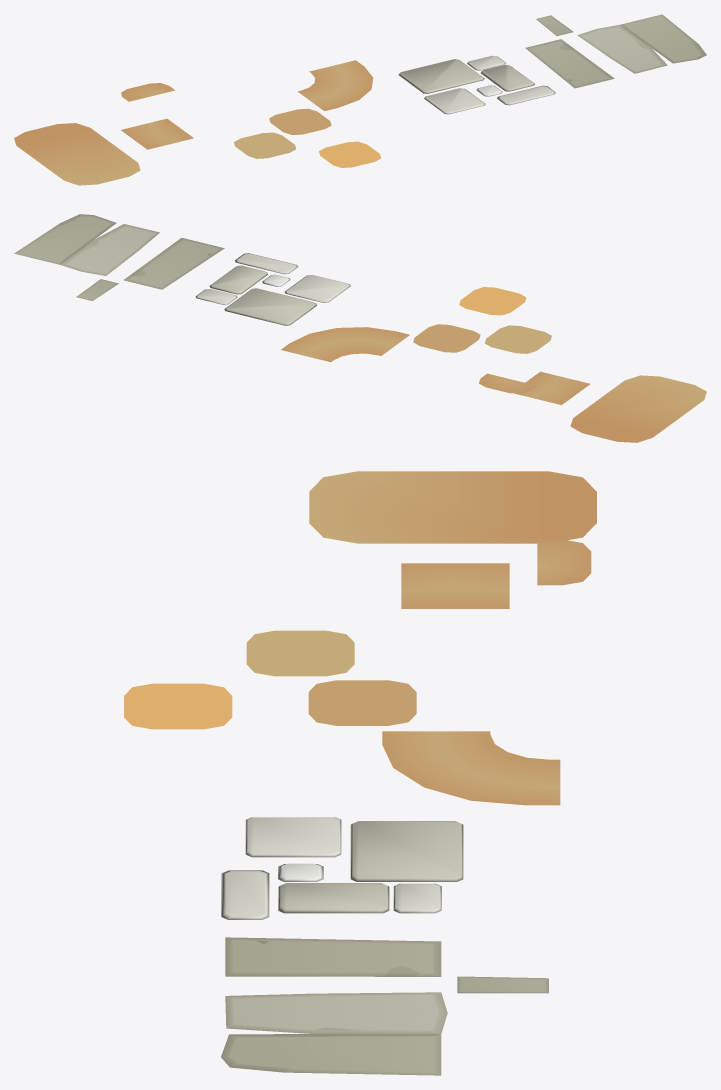
File: Road.fbx
The picture shows the model from 3 angles, top to bottom: view 1: azimuth 30°, elevation 25°; view 2: azimuth 150°, elevation 25°; view 3: azimuth 270°, elevation 25°; orthographic projection. The views are drawn at different scales.
Visible parts, largest first — view 1: Road_S1_1, Road_Step3_1, Road_S1_3.005, Road_Step2_2, Road_Step2_3, Road_Step2_1, Road_S1_2, Road_S1_3.001, Road_S2_1, Road_S1_3.003, Road_S1_3_End.001, Road_Step2_1.001 (+1 smaller); view 2: Road_S1_1, Road_Step3_1, Road_S1_3.005, Road_Step2_2, Road_Step2_3, Road_Step2_1, Road_S1_3.003, Road_S1_3.001, Road_S2_1, Road_S1_2, Road_S1_3_End.001, Road_Step2_1.001 (+1 smaller); view 3: Road_S1_1, Road_Step3_1, Road_S1_3.005, Road_Step2_2, Road_Step2_3, Road_Step2_1, Road_S1_2, Road_S1_3.001, Road_S2_1, Road_S1_3.003, Road_S1_3_End.001, Road_Step2_1.001 (+1 smaller).
Boxes of the visible parts, bbox=[...] form: Road_S1_1: bbox=[14, 123, 140, 185]; Road_Step3_1: bbox=[398, 59, 555, 114]; Road_S1_3.005: bbox=[297, 60, 373, 111]; Road_Step2_2: bbox=[577, 25, 667, 73]; Road_Step2_3: bbox=[620, 14, 706, 63]; Road_Step2_1: bbox=[525, 39, 614, 88]; Road_S1_2: bbox=[121, 118, 193, 149]; Road_S1_3.001: bbox=[234, 132, 295, 158]; Road_S2_1: bbox=[319, 141, 380, 167]; Road_S1_3.003: bbox=[269, 108, 331, 134]; Road_S1_3_End.001: bbox=[121, 83, 175, 101]; Road_Step2_1.001: bbox=[536, 15, 573, 35]; Road_S1_1: bbox=[570, 375, 706, 442]; Road_Step3_1: bbox=[209, 253, 350, 325]; Road_S1_3.005: bbox=[281, 327, 409, 362]; Road_Step2_2: bbox=[60, 224, 159, 275]; Road_Step2_3: bbox=[14, 214, 116, 264]; Road_Step2_1: bbox=[123, 237, 224, 289]; Road_S1_3.003: bbox=[413, 324, 480, 352]; Road_S1_3.001: bbox=[484, 325, 551, 353]; Road_S2_1: bbox=[459, 287, 526, 315]; Road_S1_2: bbox=[515, 371, 590, 404]; Road_S1_3_End.001: bbox=[479, 373, 537, 393]; Road_Step2_1.001: bbox=[76, 279, 118, 300]; Road_S1_1: bbox=[309, 471, 596, 543]; Road_Step3_1: bbox=[221, 817, 463, 919]; Road_S1_3.005: bbox=[382, 731, 560, 805]; Road_Step2_2: bbox=[225, 992, 447, 1033]; Road_Step2_3: bbox=[221, 1034, 441, 1075]; Road_Step2_1: bbox=[225, 937, 441, 976]; Road_S1_2: bbox=[401, 563, 509, 608]; Road_S1_3.001: bbox=[246, 630, 354, 676]; Road_S2_1: bbox=[124, 683, 232, 729]; Road_S1_3.003: bbox=[308, 680, 416, 725]; Road_S1_3_End.001: bbox=[537, 539, 591, 585]; Road_Step2_1.001: bbox=[457, 976, 548, 993].
Bounding box in the file's own units: 13.23 × 0.3977 × 4.37.
